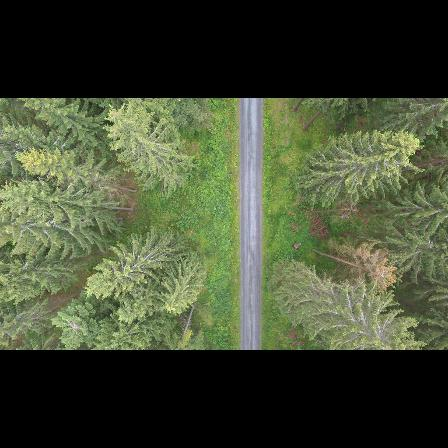Sick: (58, 313, 89, 344)
